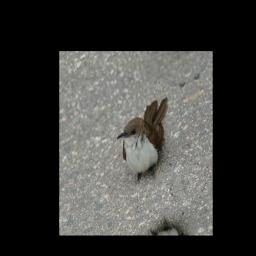Cuckoo: (112, 94, 184, 193)
